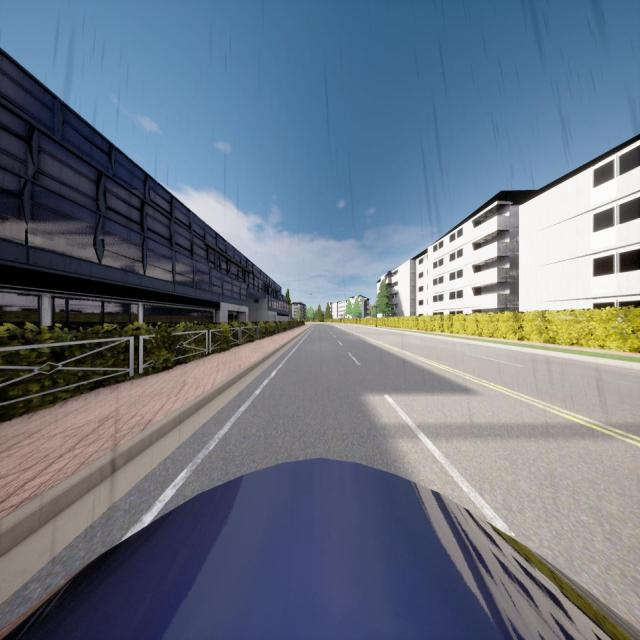Vehicle: (0, 455, 640, 640)
